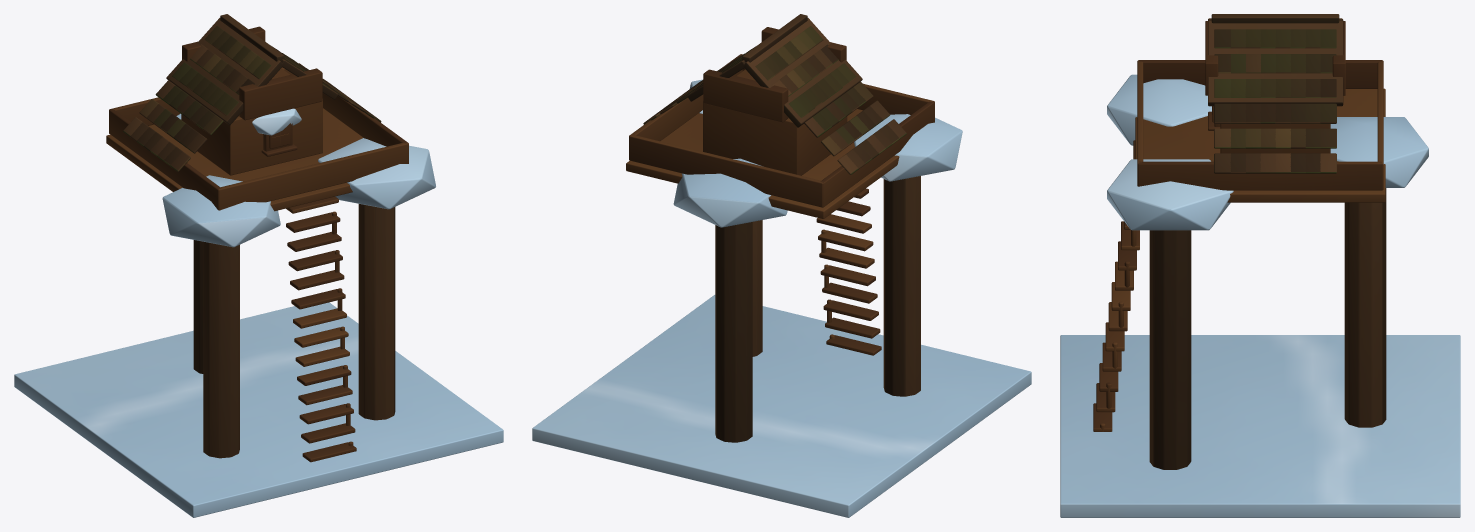
File: building_outcast_aerie.fbx
The picture shows the model from 3 angles, left to right: view 1: azimuth 30°, elevation 25°; view 2: azimuth 150°, elevation 25°; view 3: azimuth 270°, elevation 25°; orthographic projection. The views are drawn at different scales.
Parts seen in each view (by area): view 1: building_outcast_aerie; view 2: building_outcast_aerie; view 3: building_outcast_aerie.
Part boxes in pixels (bbox=[...]): building_outcast_aerie: bbox=[14, 14, 503, 517]; building_outcast_aerie: bbox=[532, 14, 1031, 517]; building_outcast_aerie: bbox=[1060, 14, 1460, 517].
Bounding box in the file's own units: 8 × 9.29 × 8.
